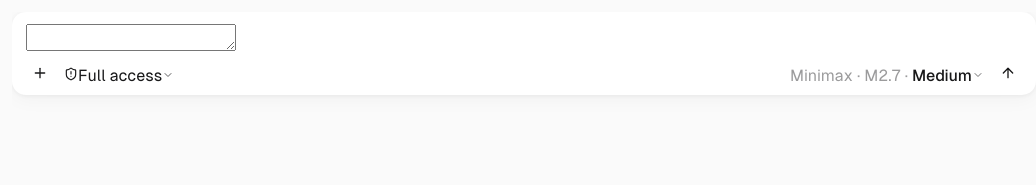
it: Composer › blocks stale Skill rows after an open refresh fails and allows an explicit retry
This screenshot has width=1036, height=185.
Type "$" into the text box named "message" at (131, 38), box [26, 24, 236, 51]
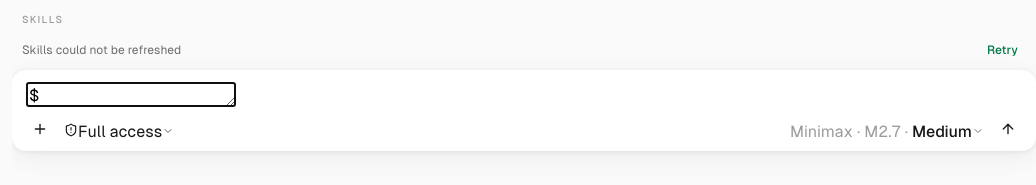
expect the text "$pdf" is not shown: met
expect the text "Skills could not be refreshed" is shown: met, box [22, 42, 181, 58]
Click the button "Retry" at (1002, 50), box [979, 38, 1026, 62]
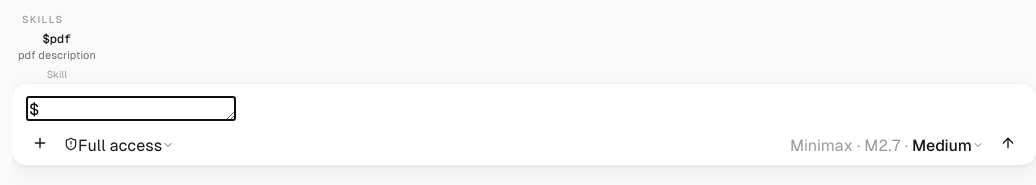
expect the text "$pdf" is shown: met, box [42, 31, 71, 47]
